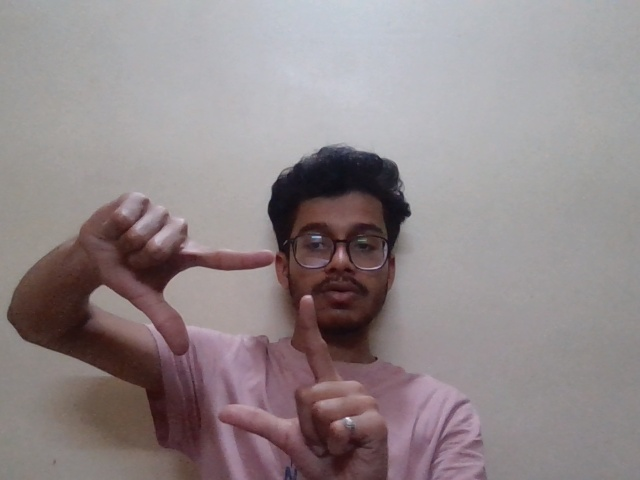video: (67, 189, 400, 466)
